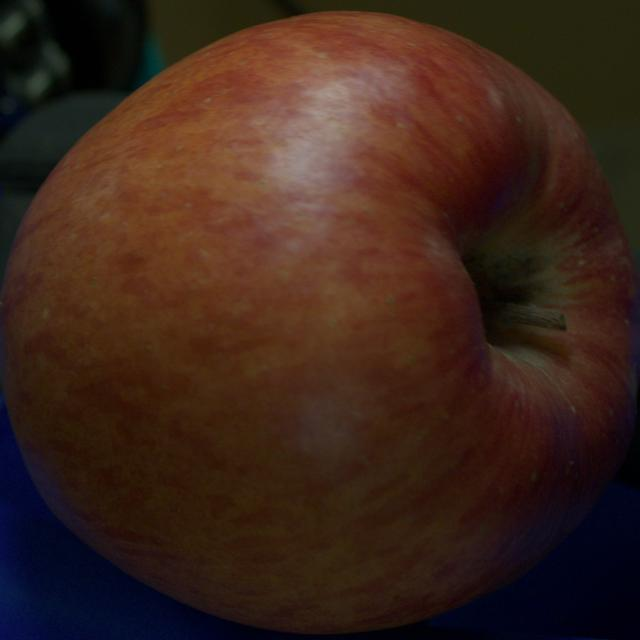apple: (0, 12, 639, 632)
